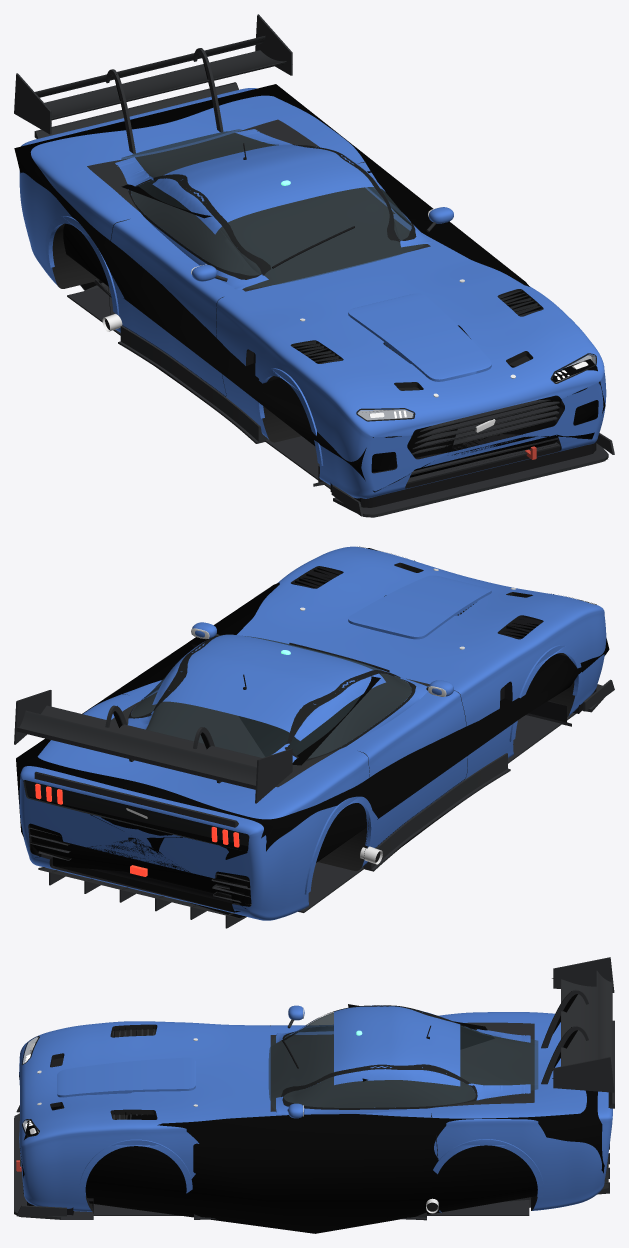
File: mustang.glb
The picture shows the model from 3 angles, top to bottom: view 1: azimuth 30°, elevation 25°; view 2: azimuth 150°, elevation 25°; view 3: azimuth 270°, elevation 25°; orthographic projection. The views are drawn at different scales.
Visible parts, largest first — view 1: Body, Carbon, Shadow, Paint, Cabin, Grille, Trim, Chrome; view 2: Body, Shadow, Paint, Carbon, Cabin, Trim, Grille, LightR, Chrome; view 3: Body, Shadow, Paint, Cabin, Carbon, Trim.
Boxes of the visible parts, <box> form: Body: <box>19,88,606,498</box>; Carbon: <box>14,14,614,517</box>; Shadow: <box>14,38,607,516</box>; Paint: <box>45,129,491,465</box>; Cabin: <box>121,129,425,288</box>; Grille: <box>243,143,596,507</box>; Trim: <box>108,144,596,421</box>; Chrome: <box>102,207,588,432</box>; Body: <box>19,546,606,920</box>; Shadow: <box>16,548,609,917</box>; Paint: <box>128,575,581,894</box>; Carbon: <box>14,566,614,928</box>; Cabin: <box>131,636,419,758</box>; Trim: <box>121,546,596,858</box>; Grille: <box>243,643,596,722</box>; LightR: <box>35,783,239,876</box>; Chrome: <box>126,568,515,864</box>; Body: <box>19,1012,612,1212</box>; Shadow: <box>14,978,604,1233</box>; Paint: <box>57,1005,543,1197</box>; Cabin: <box>268,1012,538,1110</box>; Carbon: <box>14,957,614,1220</box>; Trim: <box>22,1005,477,1160</box>.
Bounding box in the file's own units: 2.22 × 1.51 × 4.77.
